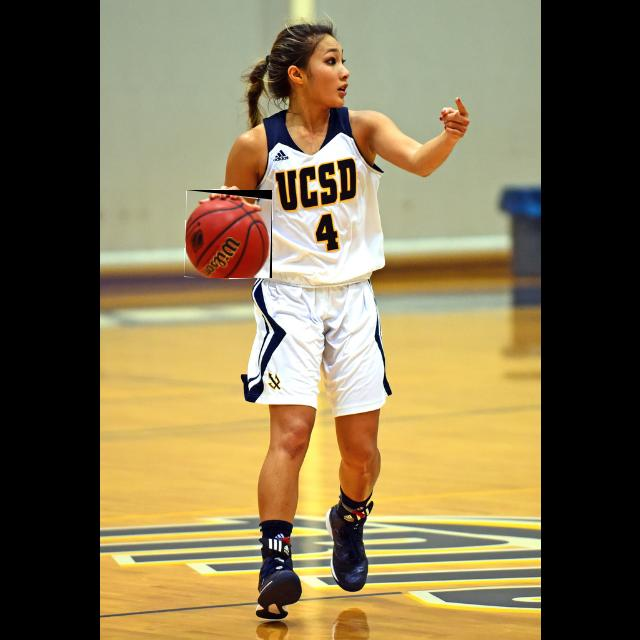Football: (186, 190, 272, 278)
